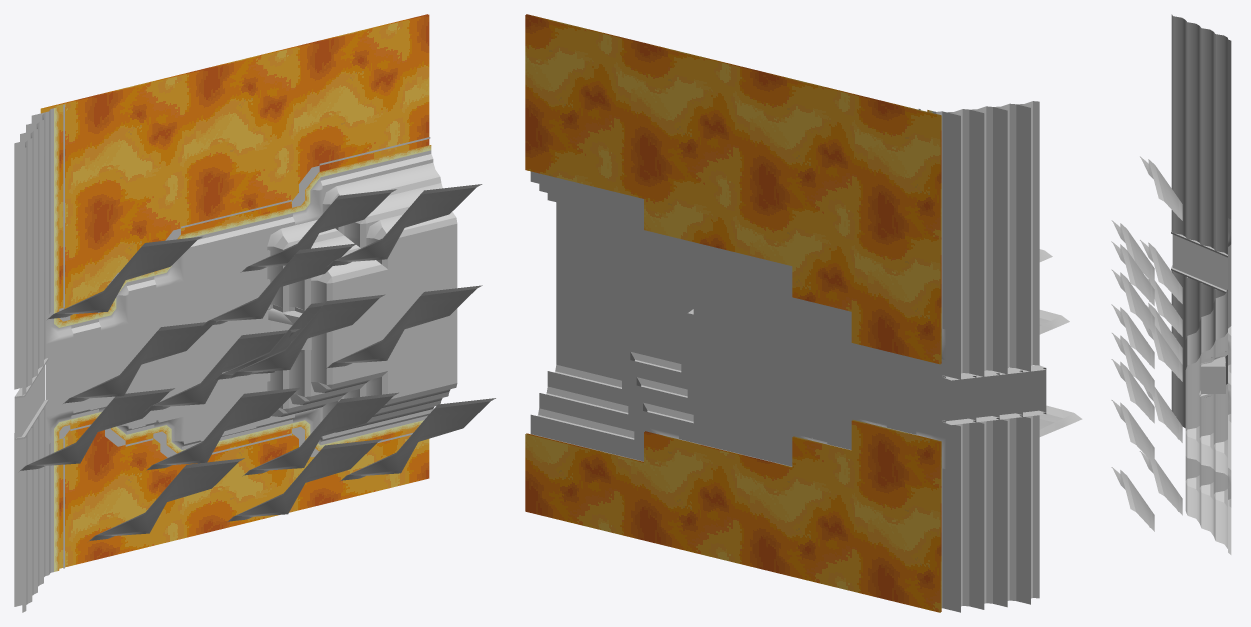
File: Mount-Undara-1_04_02.obj
3 renders of one model, left to right at view 1: azimuth 30°, elevation 25°; view 2: azimuth 150°, elevation 25°; view 3: azimuth 270°, elevation 25°, orthographic. The views are drawn at different scales.
Visible parts, largest first — view 1: map; view 2: map; view 3: map.
Part boxes in pixels (box(x1,y1,x2,y2)): map: box(14, 14, 495, 612); map: box(525, 14, 1082, 612); map: box(1111, 14, 1231, 554).
Size of the model in its own units: 34.18 by 32 by 8.9.
